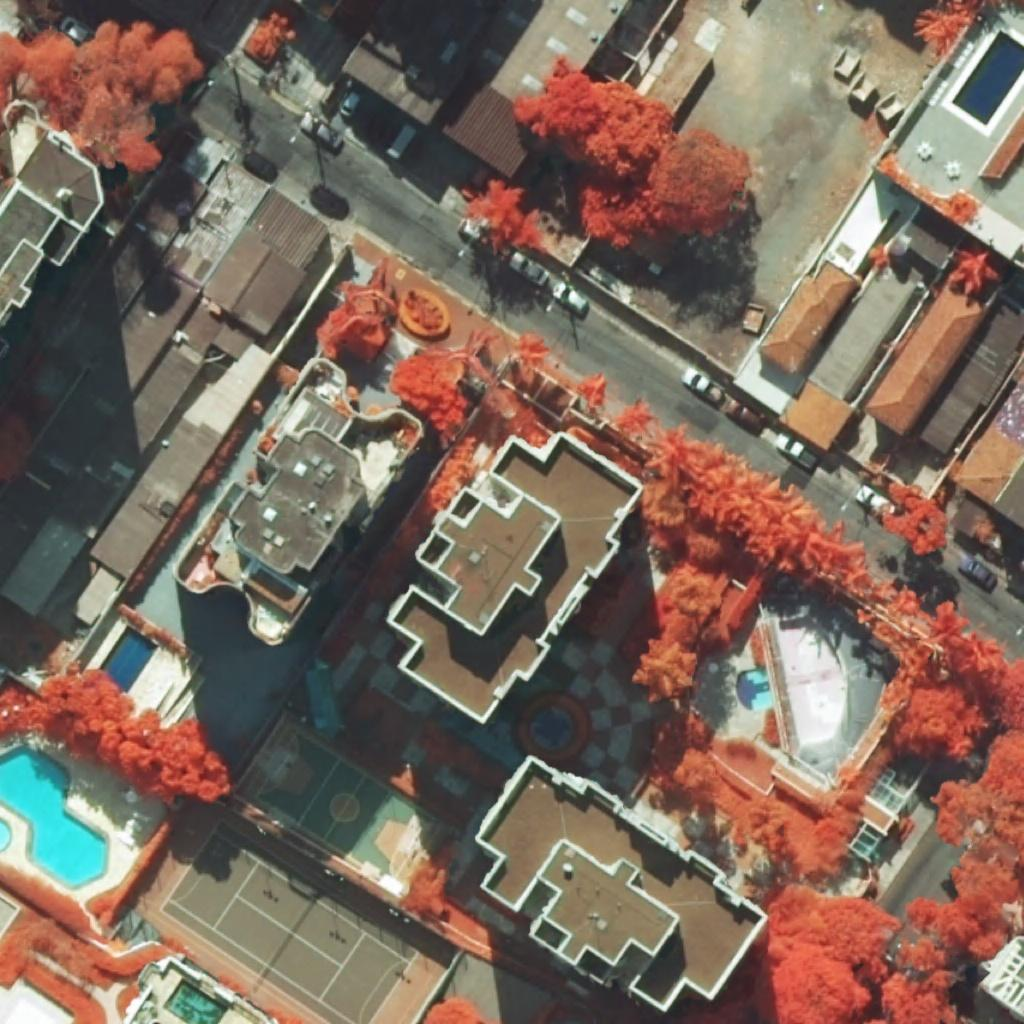pool: (0, 745, 106, 888), (952, 30, 1024, 125), (98, 625, 159, 694), (164, 979, 228, 1024), (736, 667, 774, 712)
